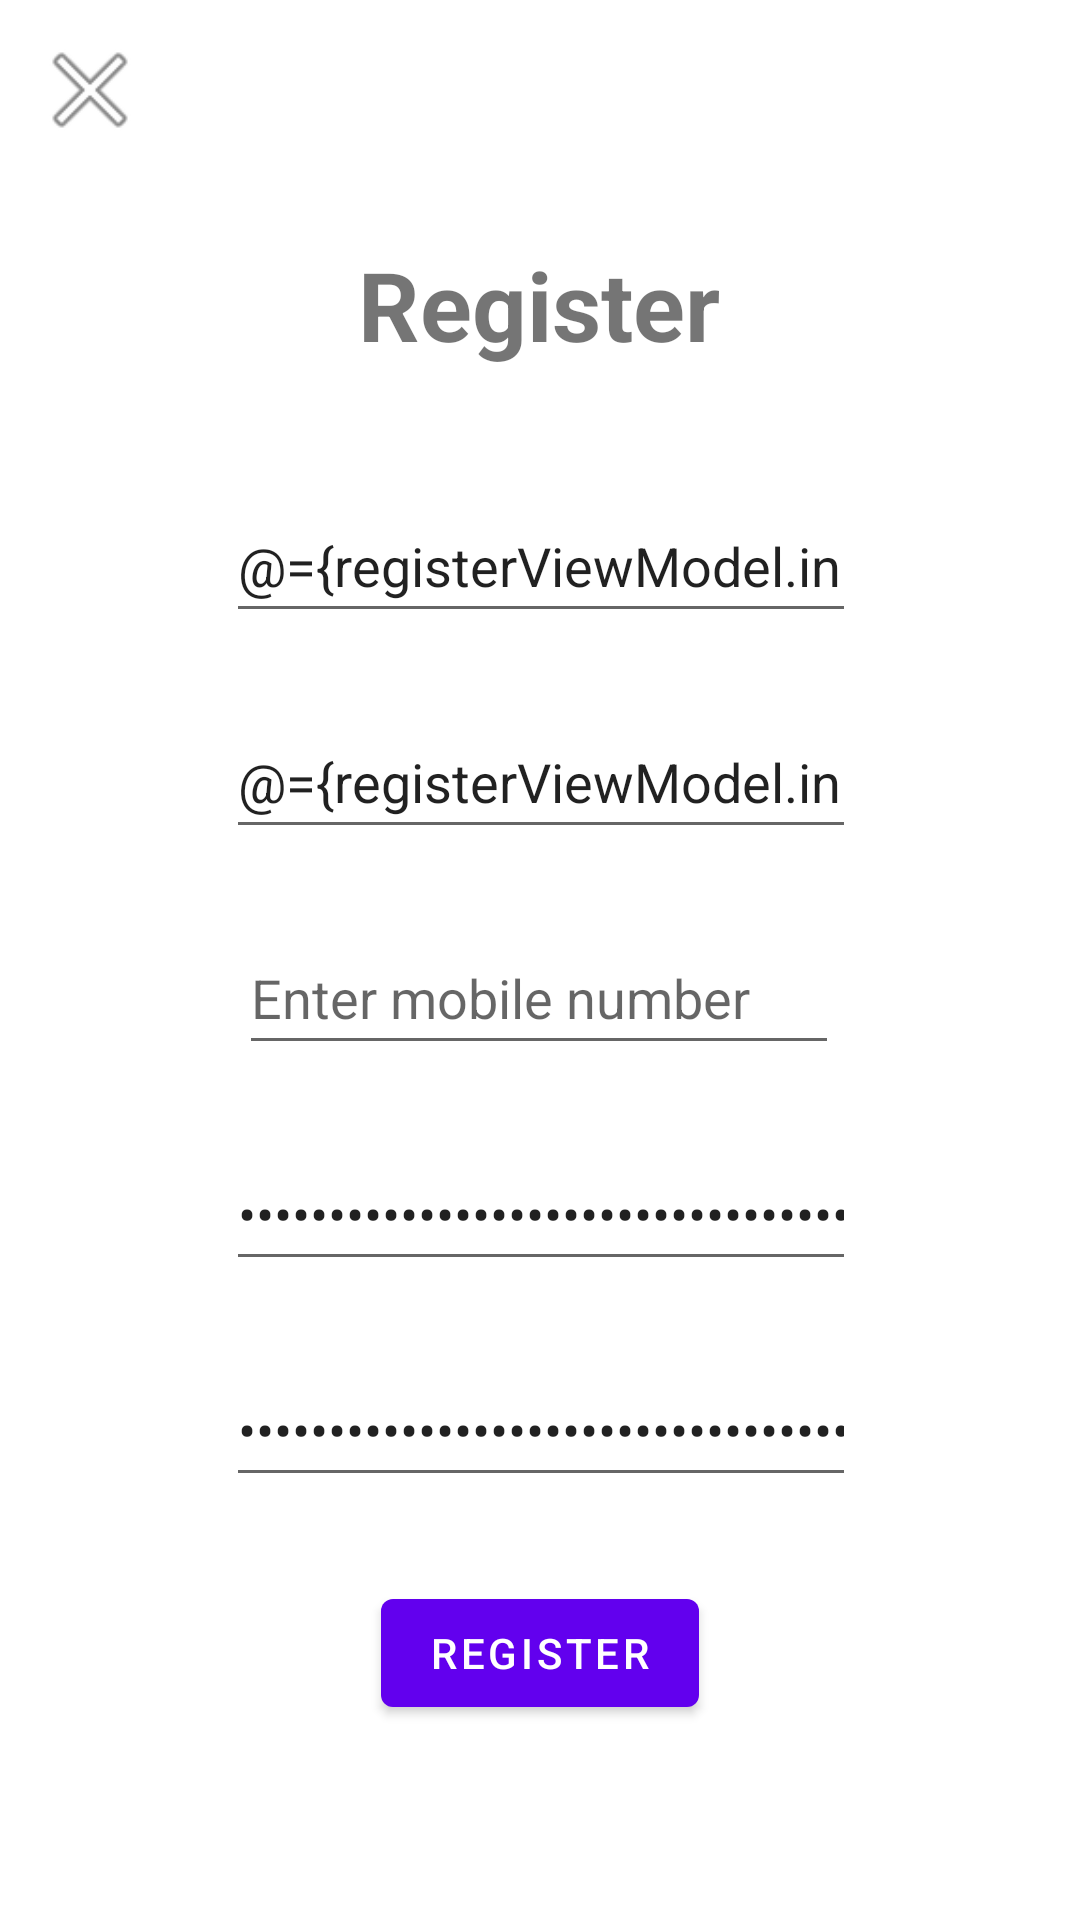

Named icons in this screenshot (1080px×1920px) and their centers, [x,y]:
close clear cancel: [90,90]
